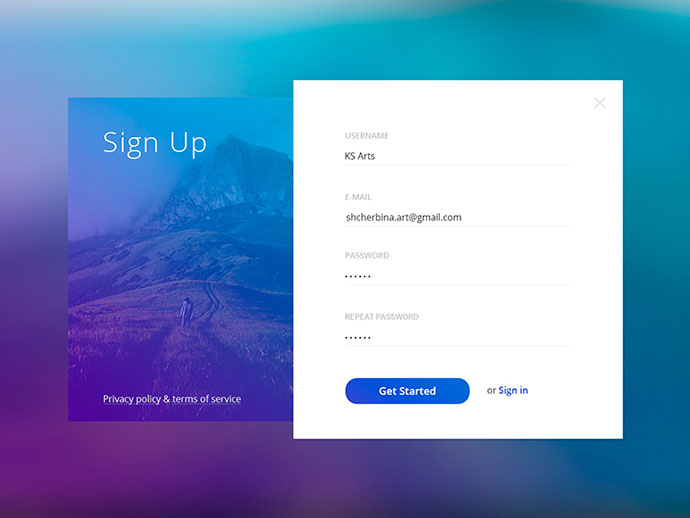_form_: (225, 37, 641, 453)
button: (345, 377, 469, 404)
field: (344, 250, 597, 290), (342, 312, 599, 350), (343, 130, 591, 167), (342, 189, 593, 225)
